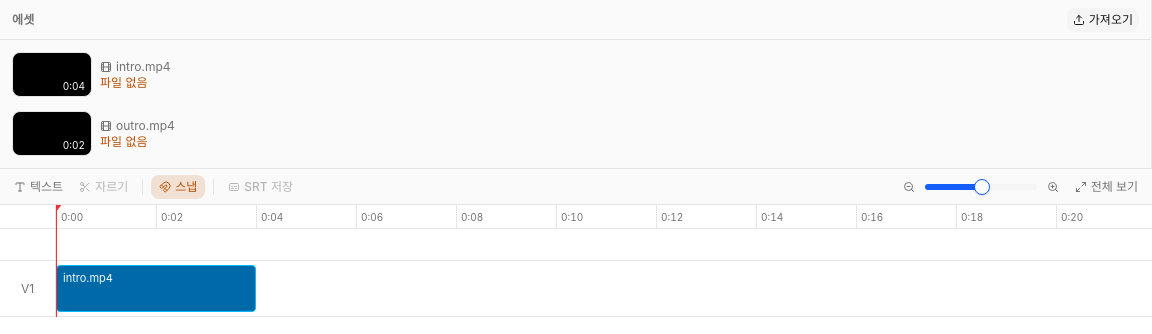
Timeline › 클립 이동 › Esc를 누르면 이동을 취소한다
The image size is (1152, 334).
Earlier steps of the test are not shown.
Press the mouse on the list item with aria-label "클립 intro.mp4" at (156,288), box [56,265,256,312]
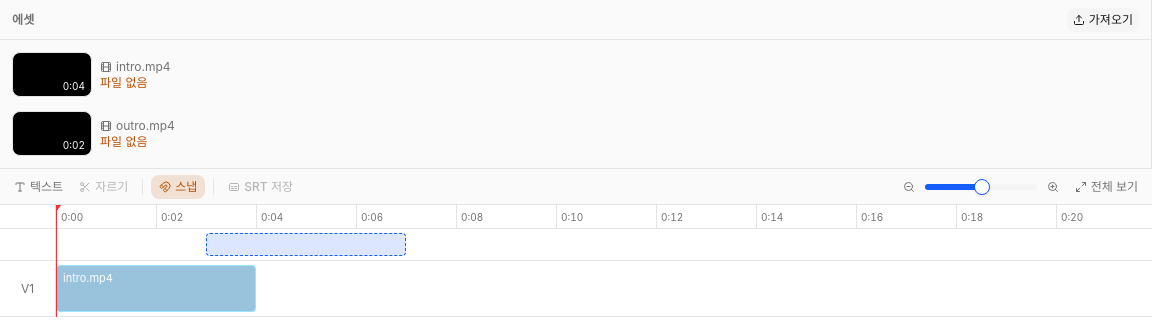
Press Escape
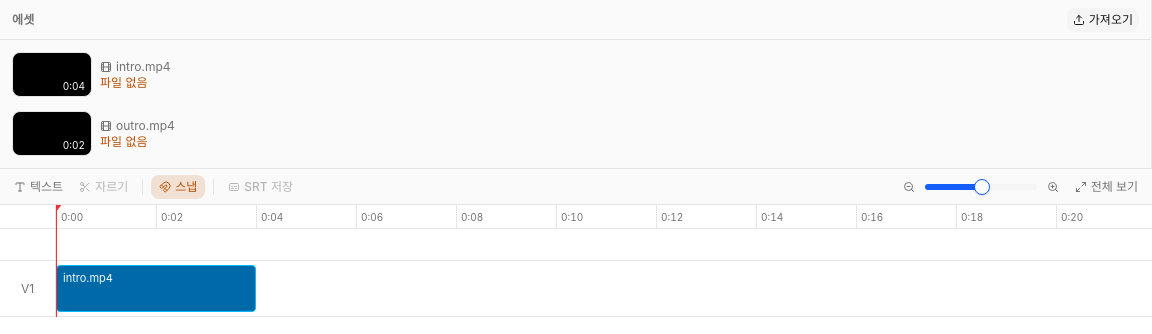
Check: the element with test id "drop-preview" is gone
